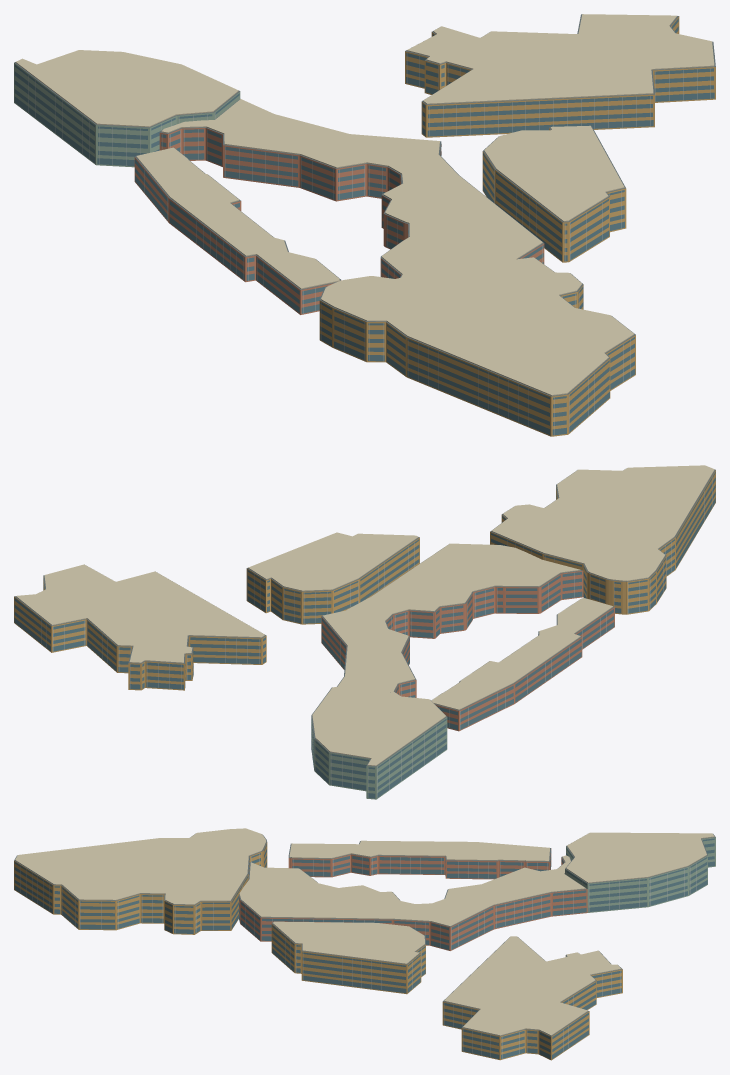
3 renders of one model, top to bottom at view 1: azimuth 30°, elevation 25°; view 2: azimuth 150°, elevation 25°; view 3: azimuth 270°, elevation 25°, orthographic. The views are drawn at different scales.
Parts seen in each view (by area): view 1: canal-city-hakata; view 2: canal-city-hakata; view 3: canal-city-hakata.
Part boxes in pixels (left/top/right/bottom): canal-city-hakata: left=14, top=14, right=715, bottom=436; canal-city-hakata: left=14, top=465, right=715, bottom=799; canal-city-hakata: left=14, top=828, right=715, bottom=1060.
Bounding box in the file's own units: 236 × 16.32 × 346.
